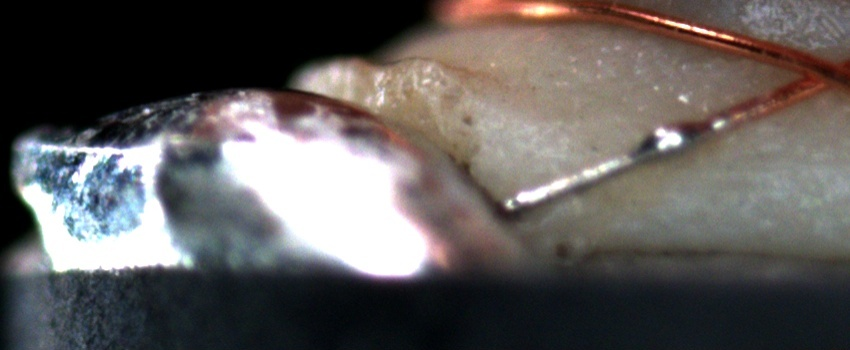CL: (775, 48, 845, 101)
DL: (662, 131, 850, 188)
TB: (640, 116, 707, 162)
TS: (500, 115, 727, 214)
TTCW: (494, 98, 771, 216)
